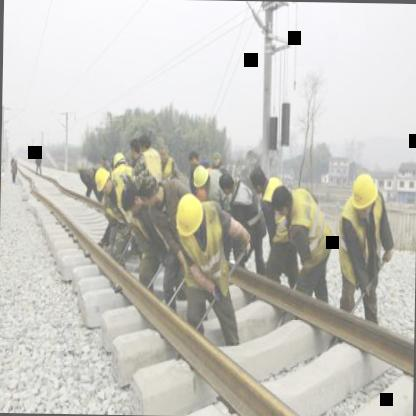head: (134, 165, 162, 207), (268, 180, 297, 218), (244, 161, 272, 197), (119, 181, 140, 223), (214, 167, 238, 199), (138, 132, 152, 158), (188, 148, 202, 171), (158, 141, 171, 164), (128, 136, 140, 158)
helmet: (172, 187, 206, 244), (348, 166, 382, 220), (93, 167, 112, 194), (192, 164, 210, 190), (111, 149, 128, 173)
